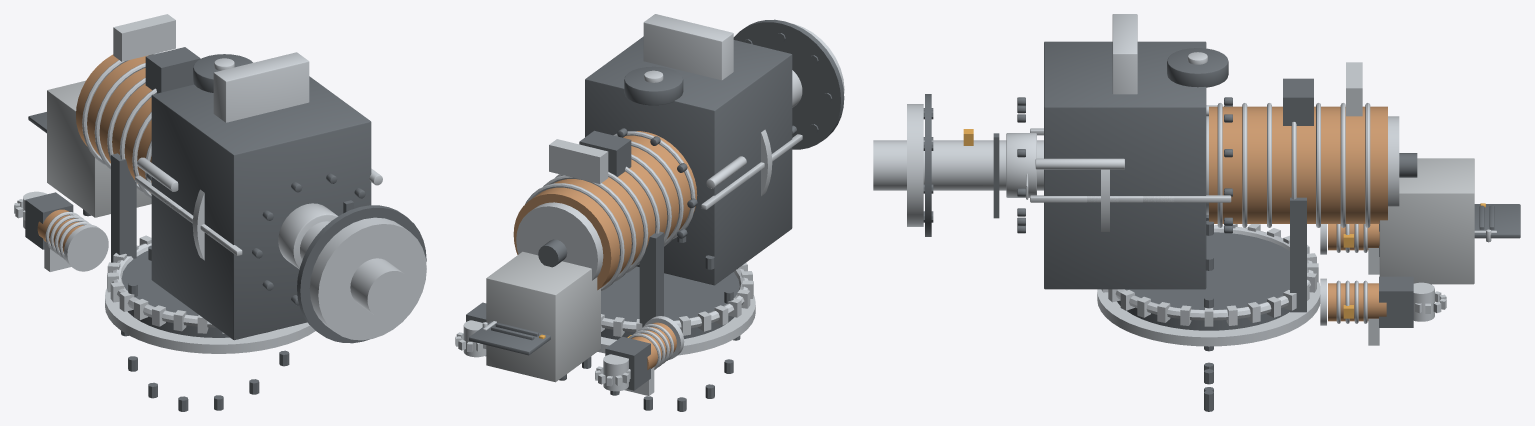
The model's file is nacelle-internals.glb.
3 views of the same model, side by side, from view 1: azimuth 30°, elevation 25°; view 2: azimuth 150°, elevation 25°; view 3: azimuth 270°, elevation 25° (orthographic). The views are drawn at different scales.
Parts seen in each view (by area): view 1: gearbox, shaft, generator, yaw_bearing, converter, yaw_drive_b; view 2: gearbox, generator, converter, yaw_bearing, shaft, yaw_drive_b, yaw_drive_a; view 3: gearbox, generator, yaw_bearing, converter, shaft, yaw_drive_a, yaw_drive_b.
Part boxes in pixels (<box>): gearbox: <box>135,52,382,340</box>; shaft: <box>192,189,426,343</box>; generator: <box>76,14,200,262</box>; yaw_bearing: <box>105,235,315,411</box>; converter: <box>28,80,151,217</box>; yaw_drive_b: <box>14,191,108,271</box>; gearbox: <box>585,14,802,285</box>; generator: <box>513,130,697,326</box>; converter: <box>469,251,600,382</box>; yaw_bearing: <box>582,236,755,411</box>; shaft: <box>733,19,844,196</box>; yaw_drive_b: <box>595,316,684,395</box>; yaw_drive_a: <box>455,302,486,357</box>; gearbox: <box>1006,14,1232,289</box>; generator: <box>1206,62,1417,312</box>; yaw_bearing: <box>1097,214,1320,411</box>; converter: <box>1379,158,1520,284</box>; shaft: <box>873,94,1109,236</box>; yaw_drive_a: <box>1320,276,1446,345</box>; yaw_drive_b: <box>1320,224,1379,274</box>.
Bounding box in the file's own units: 4 × 7.23 × 11.57.
